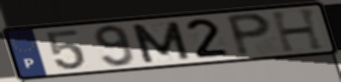2: (184, 17, 233, 60)
5: (42, 28, 88, 70)
9: (90, 23, 138, 69)
H: (268, 6, 328, 54)
M: (128, 20, 193, 65)
P: (223, 11, 274, 58)
